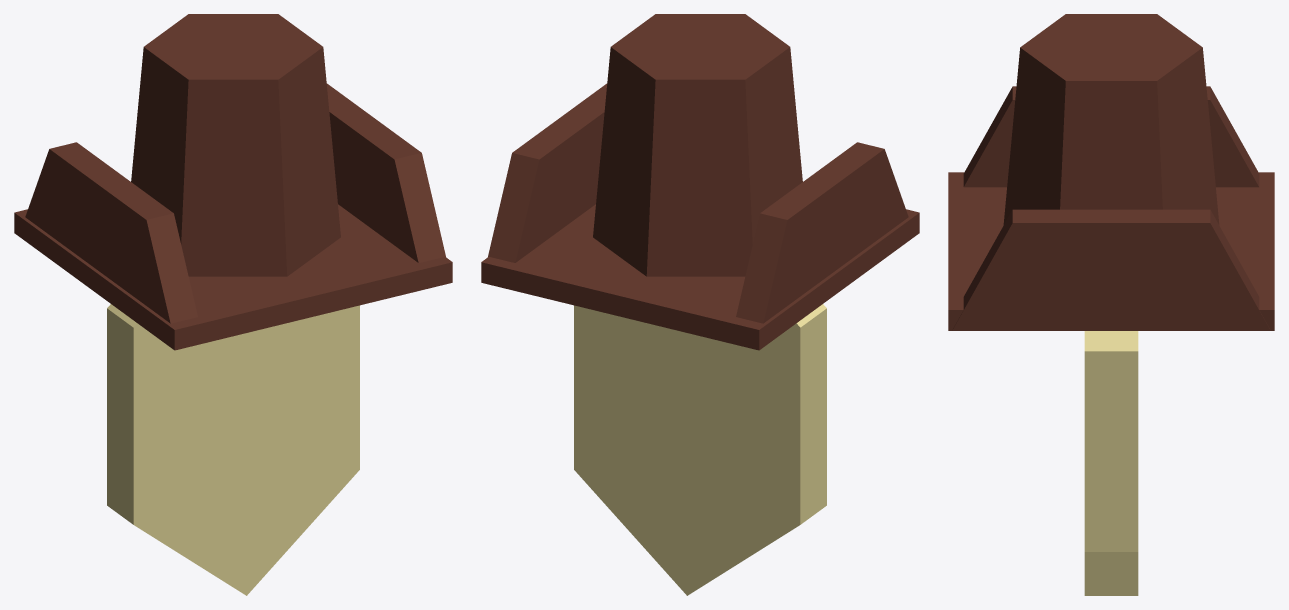
Rendered from west_coin.fbx.
3 renders of one model, left to right at view 1: azimuth 30°, elevation 25°; view 2: azimuth 150°, elevation 25°; view 3: azimuth 270°, elevation 25°, orthographic.
Visible parts, largest first — view 1: Cylinder.001, Cylinder; view 2: Cylinder.001, Cylinder; view 3: Cylinder.001, Cylinder.
Part boxes in pixels (bbox=[...]): Cylinder.001: bbox=[14, 14, 452, 350]; Cylinder: bbox=[107, 304, 359, 595]; Cylinder.001: bbox=[481, 14, 919, 350]; Cylinder: bbox=[574, 304, 826, 595]; Cylinder.001: bbox=[948, 14, 1274, 330]; Cylinder: bbox=[1084, 331, 1138, 595].
Bounding box in the file's own units: 129 × 239 × 129.
